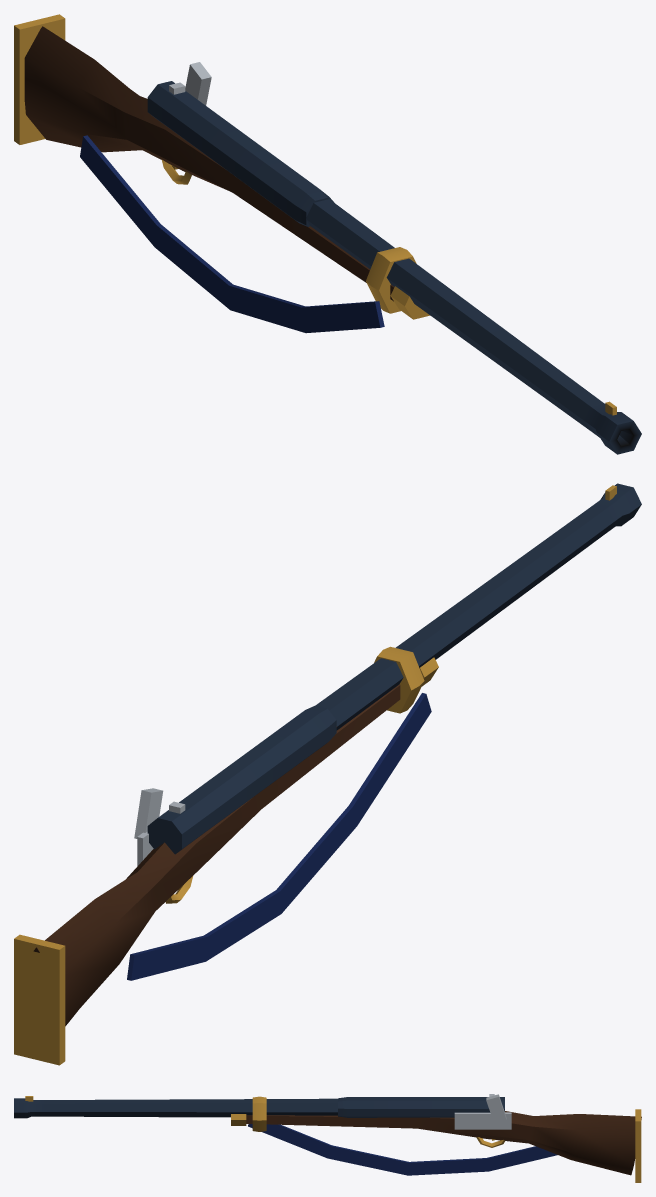
File: weapon_musket_navy_lo.glb
3 renders of one model, top to bottom at view 1: azimuth 30°, elevation 25°; view 2: azimuth 150°, elevation 25°; view 3: azimuth 270°, elevation 25°, orthographic. The views are drawn at different scales.
Parts seen in each view (by area): view 1: weapon_musket_navy_lo; view 2: weapon_musket_navy_lo; view 3: weapon_musket_navy_lo.
Boxes of the visible parts, left/top/right/bottom form: weapon_musket_navy_lo: left=14, top=14, right=641, bottom=454; weapon_musket_navy_lo: left=14, top=483, right=641, bottom=1065; weapon_musket_navy_lo: left=14, top=1094, right=641, bottom=1182.
Bounding box in the file's own units: 0.077 × 0.2315 × 1.43.
